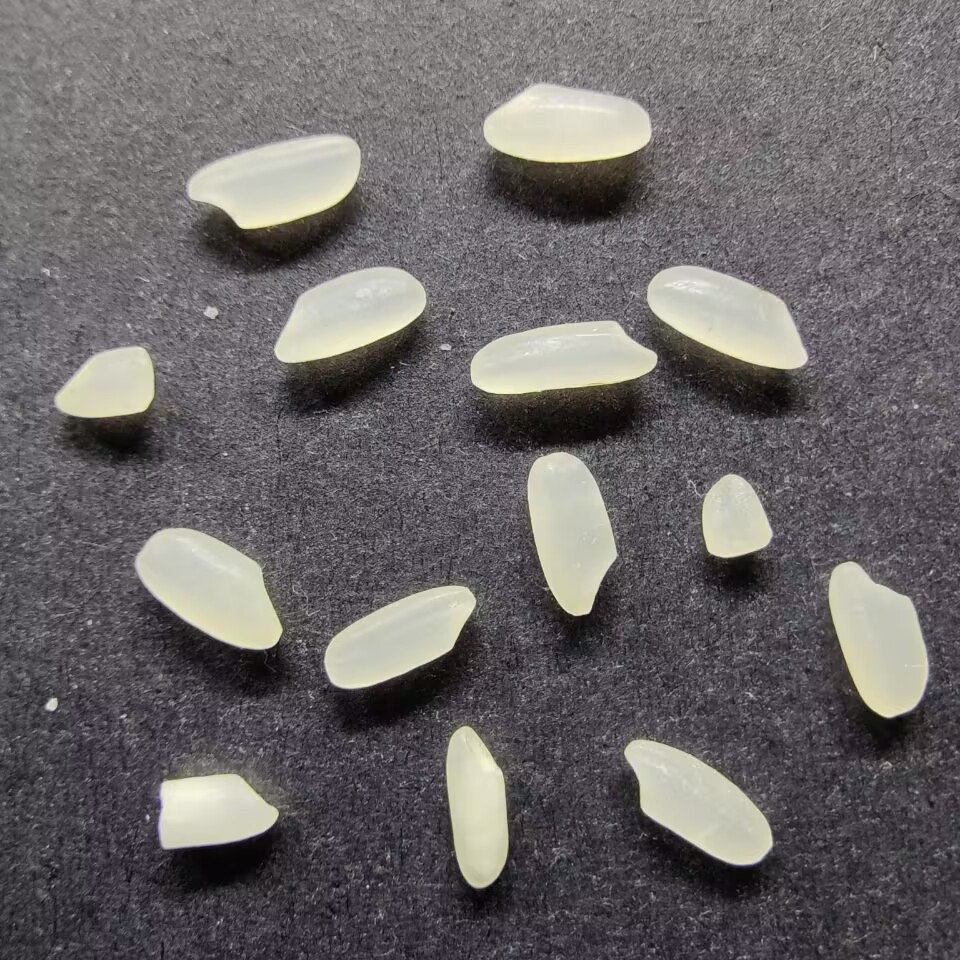broken: (152, 772, 281, 852), (53, 345, 157, 420), (701, 473, 775, 559)
rice: (622, 736, 775, 866), (133, 525, 283, 652), (645, 262, 809, 370), (184, 134, 360, 230), (323, 583, 479, 691), (827, 559, 930, 719), (270, 265, 428, 365), (525, 451, 618, 617), (469, 318, 659, 395), (482, 81, 654, 162), (445, 724, 510, 891)
